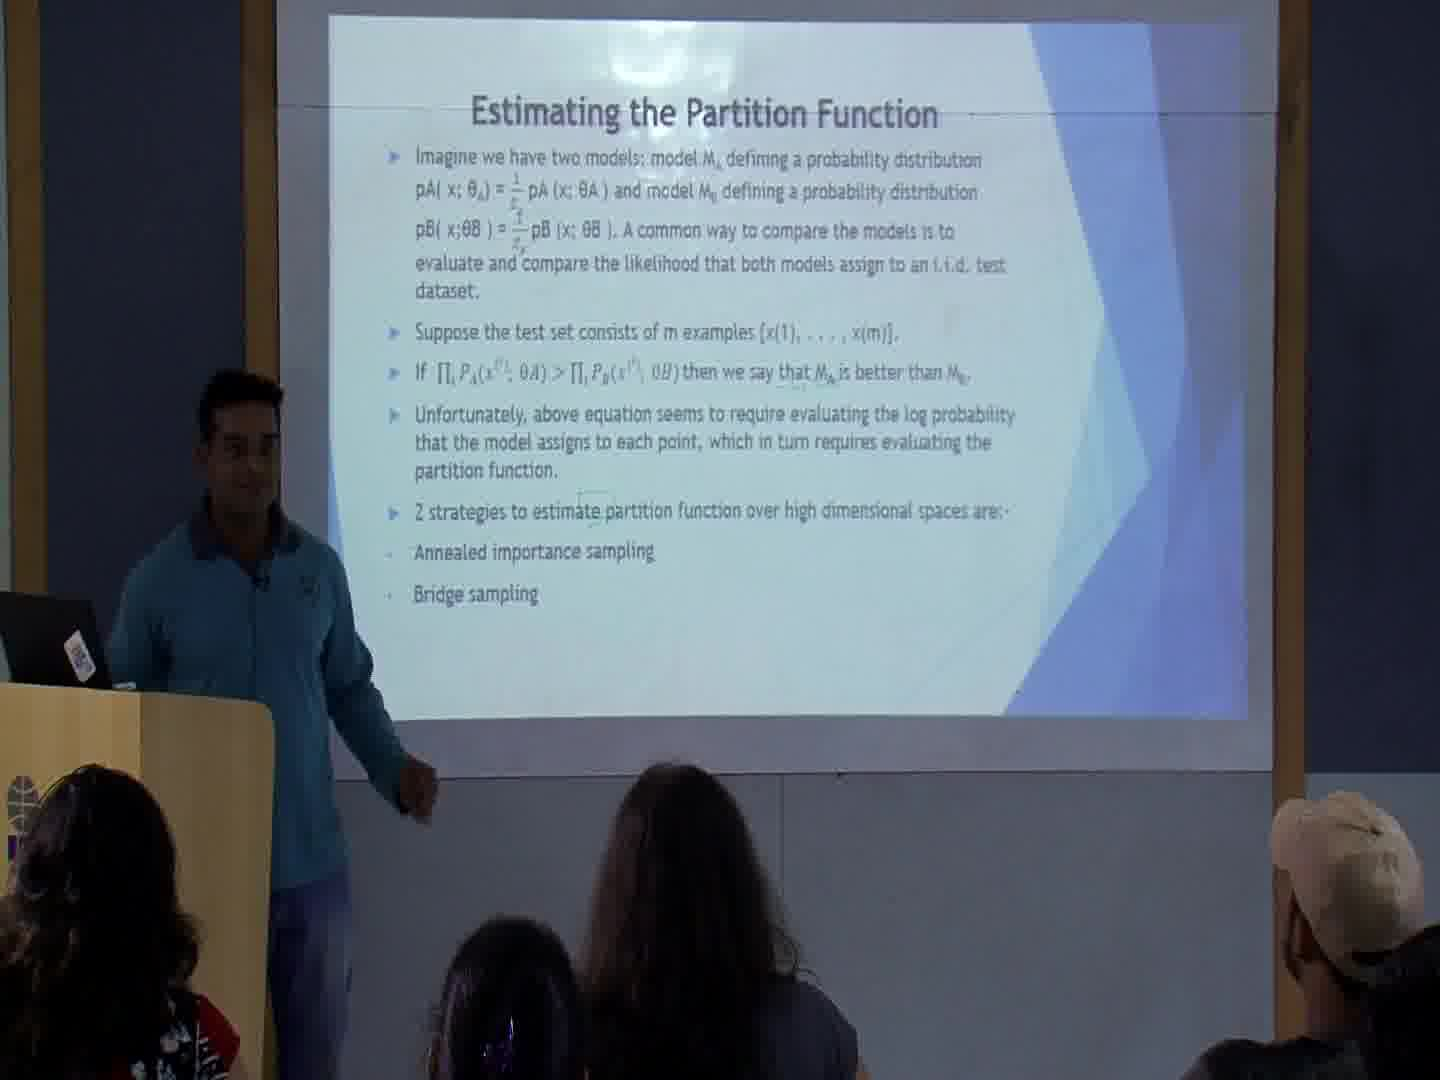eq: (434, 354, 683, 395), (410, 213, 620, 255), (413, 170, 610, 208)
